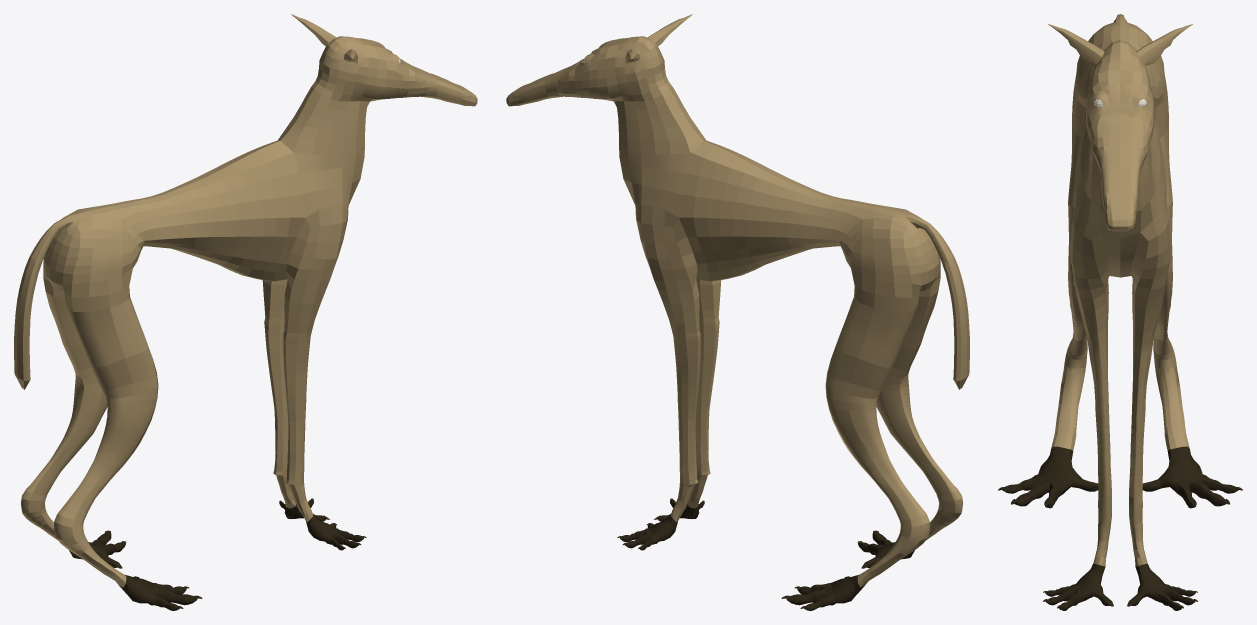
File: stretchDog.fbx
3 views of the same model, side by side, from view 1: azimuth 30°, elevation 25°; view 2: azimuth 150°, elevation 25°; view 3: azimuth 270°, elevation 25° (orthographic). The views are drawn at different scales.
Parts seen in each view (by area): view 1: EyeR1; view 2: EyeR1; view 3: EyeR1.
Part boxes in pixels (<box>): EyeR1: <box>14,14,477,610</box>; EyeR1: <box>506,14,969,610</box>; EyeR1: <box>998,14,1242,610</box>.
Size of the model in its own units: 1.93 by 1.99 by 0.7567.
